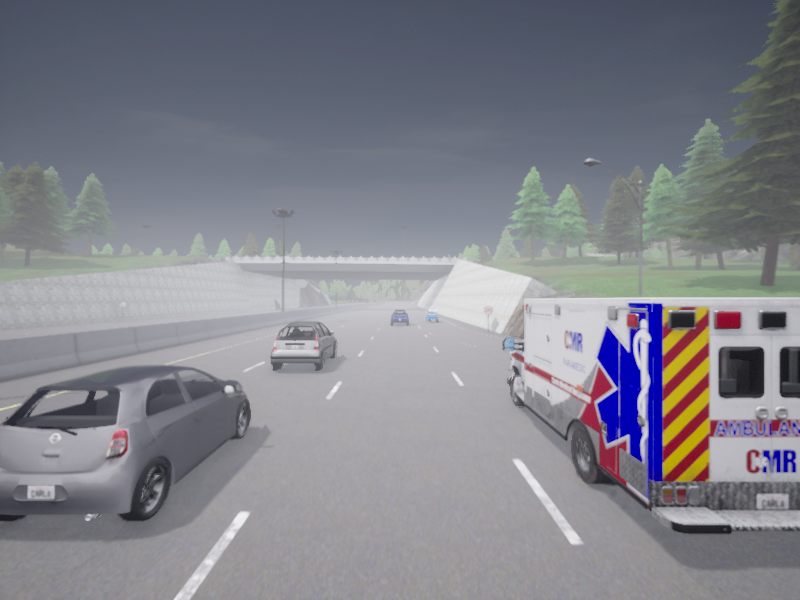vehicle: (503, 297, 799, 533), (0, 364, 249, 521), (270, 321, 336, 369), (391, 309, 408, 324), (425, 309, 437, 322)
